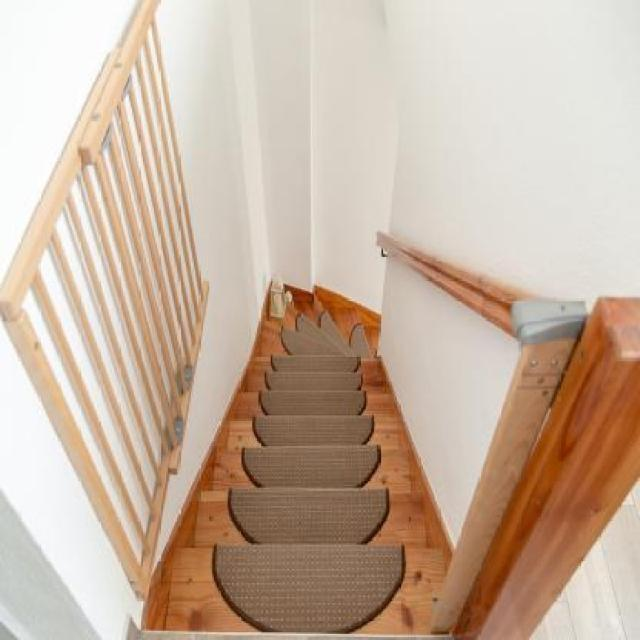stair: (127, 130, 502, 636)
